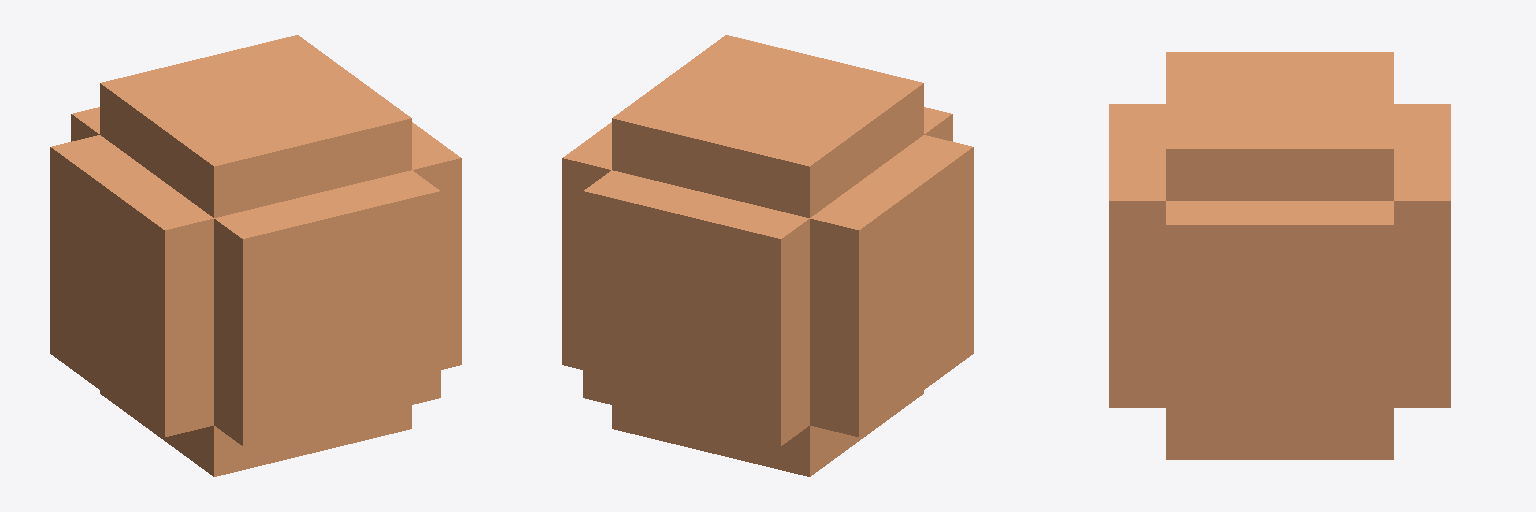
3 views of the same model, side by side, from view 1: azimuth 30°, elevation 25°; view 2: azimuth 150°, elevation 25°; view 3: azimuth 270°, elevation 25° (orthographic).
Visible parts, largest first — view 1: object 1; view 2: object 1; view 3: object 1.
Boxes of the visible parts, box(x1,y1,x2,y2) form: object 1: box(50, 35, 461, 476); object 1: box(562, 35, 973, 476); object 1: box(1109, 52, 1450, 459).
Size of the model in its own units: 0.6 by 0.6 by 0.6.
1 materials, 1 textured.